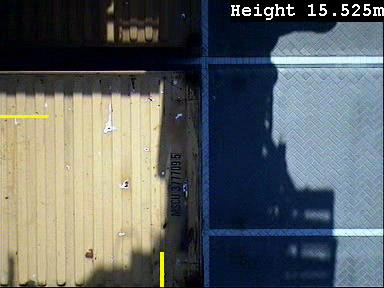groundmarker_2: (180, 50, 244, 90), (180, 195, 243, 235), (178, 252, 241, 288)
